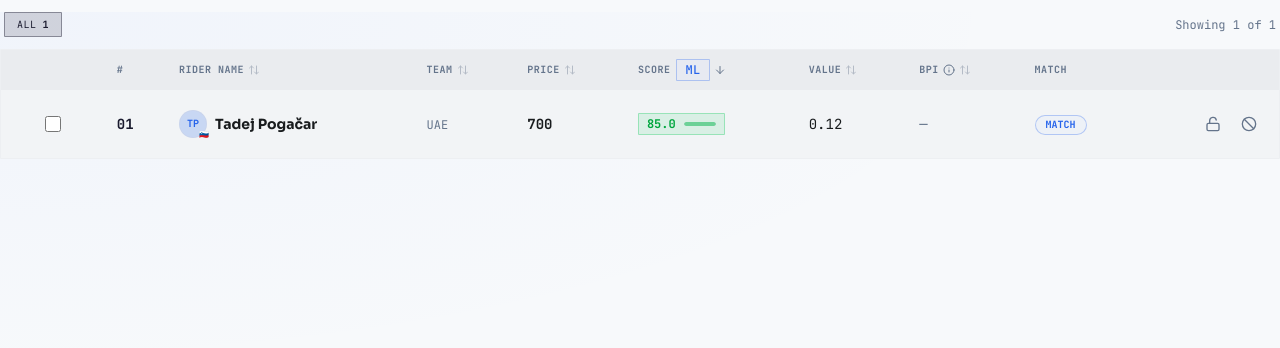
Test case: RiderTable › expands row on click to show breakdown
Step 1. Click the text "Tadej Pogačar" → point(266, 124), box 215,114 -> 317,134
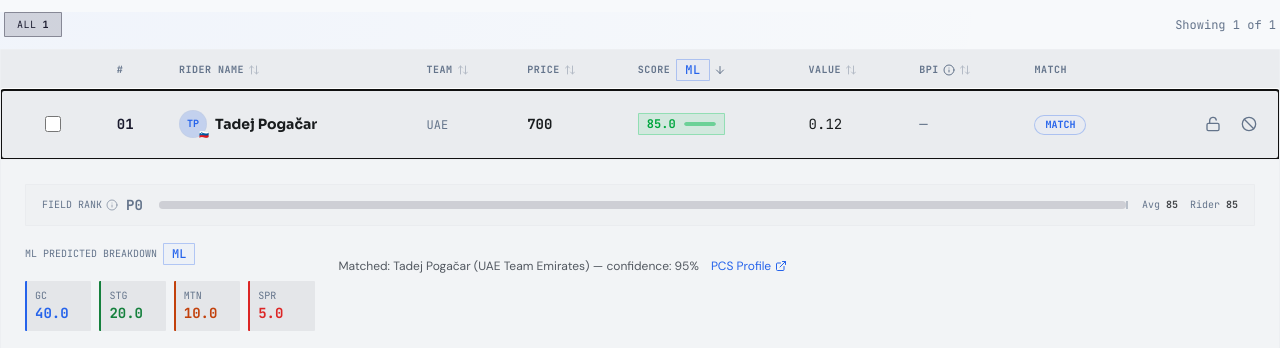
Result: the text "Matched: Tadej Pogačar (UAE Team Emirates) — confidence: 95%" is shown at 338,258 -> 699,274
